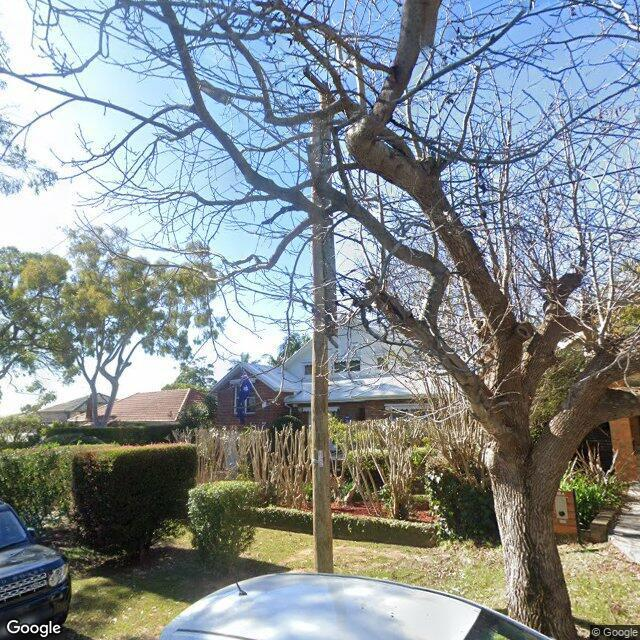timber-pole: (311, 110, 337, 576)
